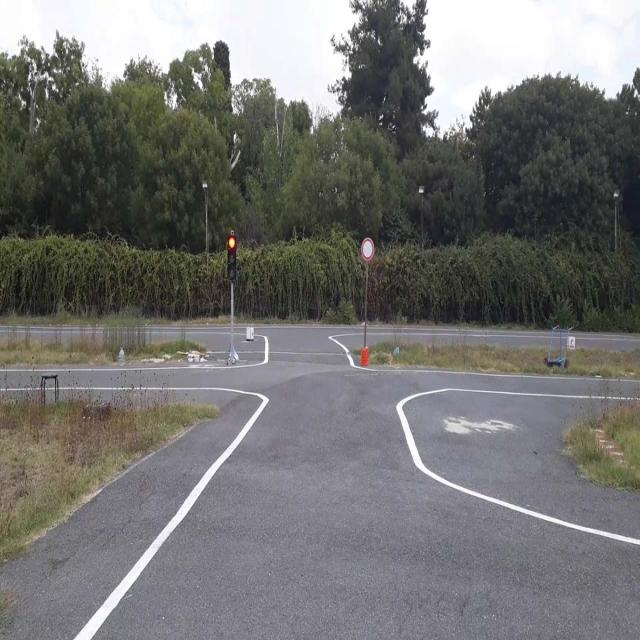kirmizi: (228, 235, 236, 278)
